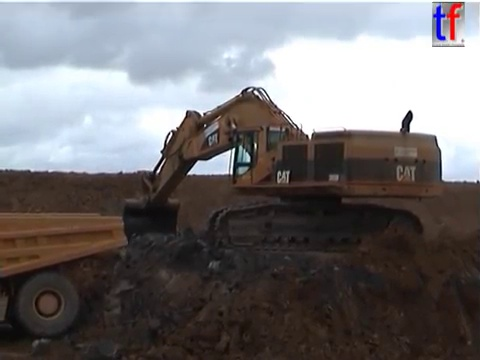excavator: (119, 83, 445, 257)
truck: (1, 209, 129, 340)
